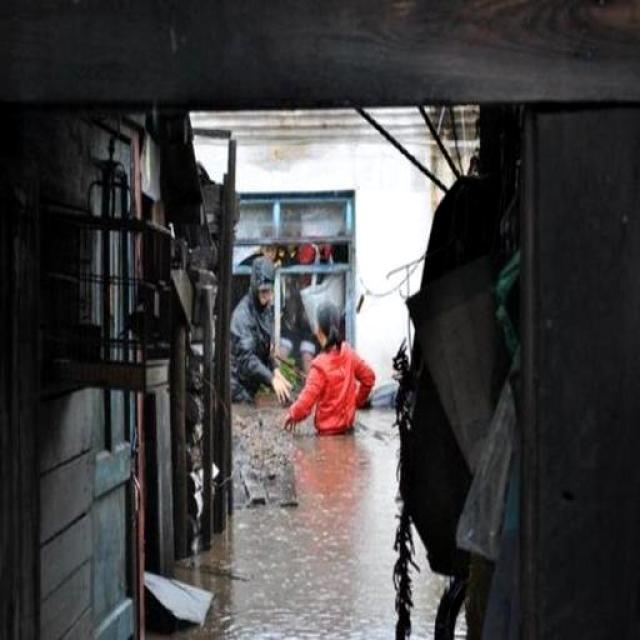civilian: (274, 285, 386, 471), (224, 249, 304, 415)
